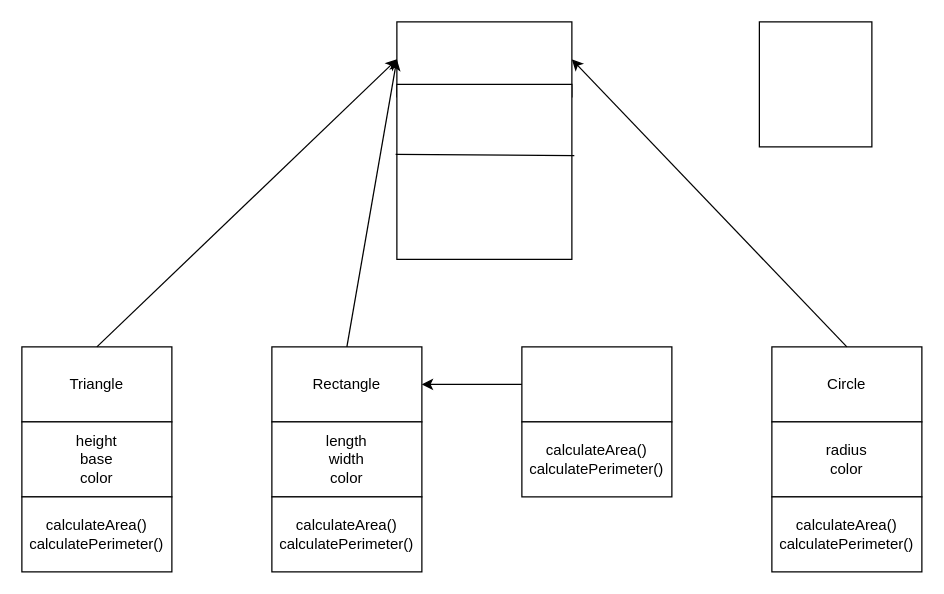
Image size: 944x594. Some labels were removed from this diagram. Here are the shapes that lost their labels. From the top down, the centre of each, then its label:
At (x=484, y=59): "Ishape".
At (x=815, y=84): "Renderer draw() draw(message)".
At (x=484, y=171): "renderer calculateArea() calculatePerimeter()".
At (x=596, y=384): "Square".
